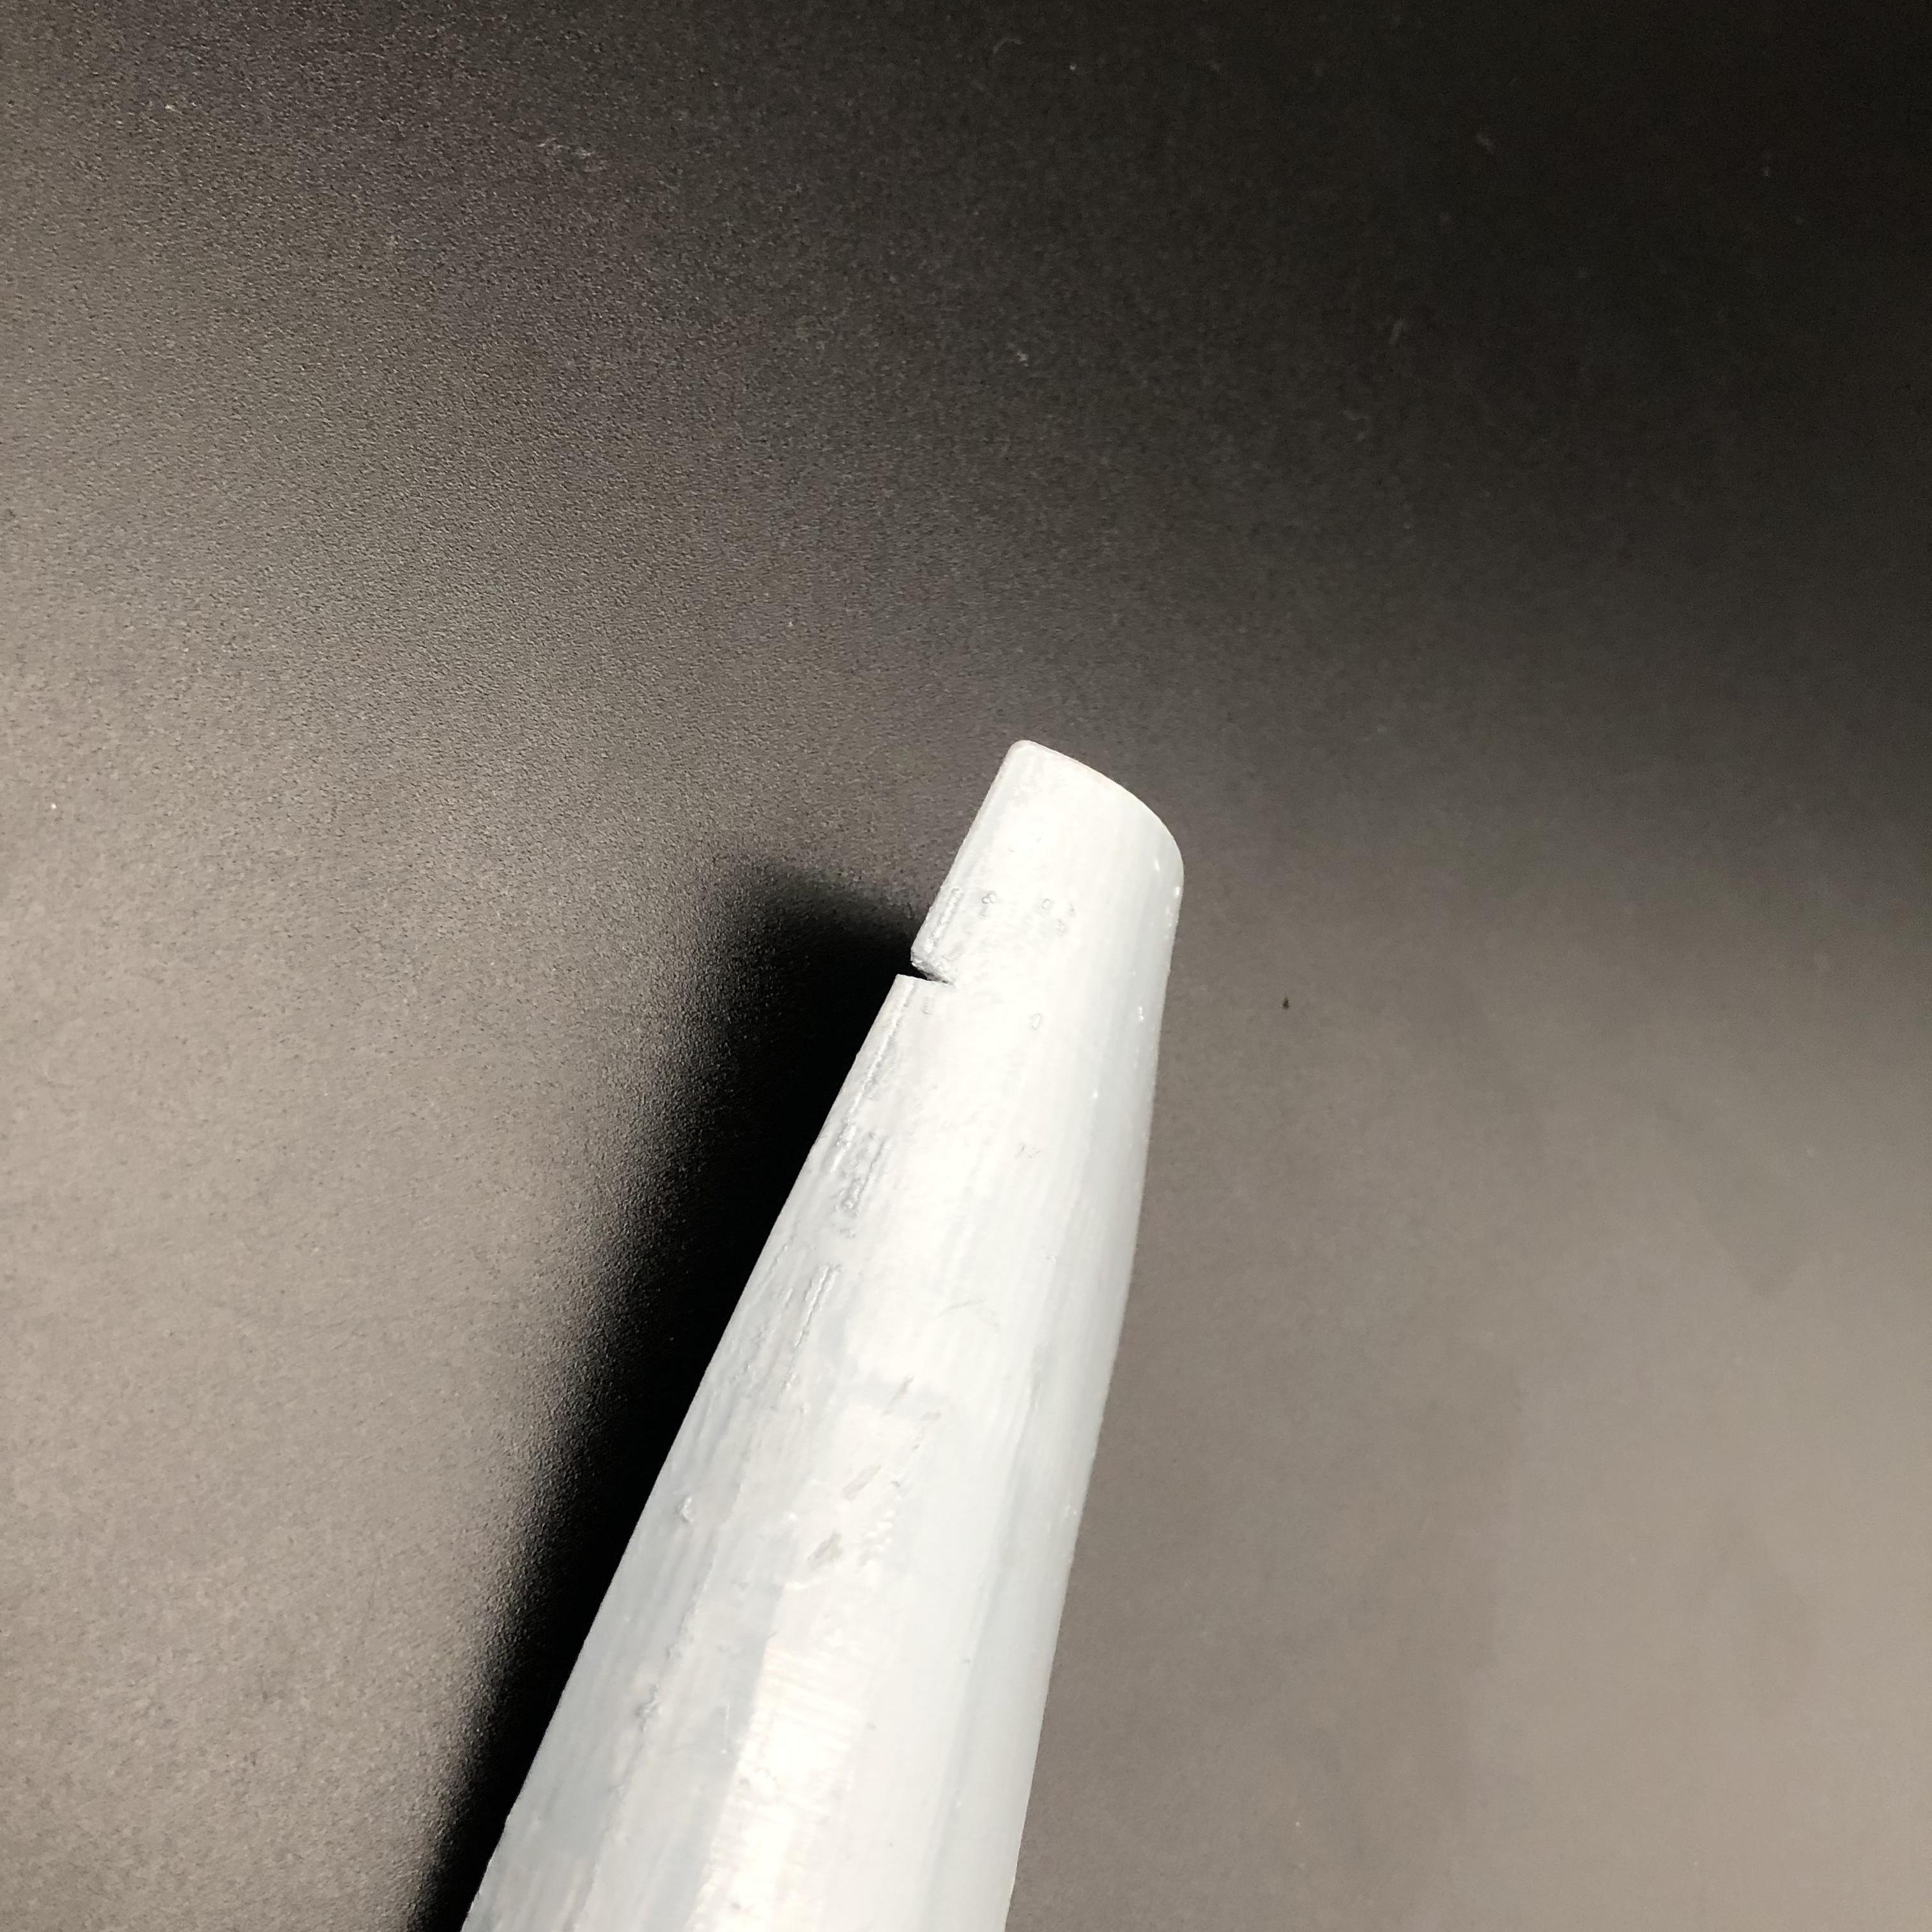groove: (901, 941, 952, 1001)
